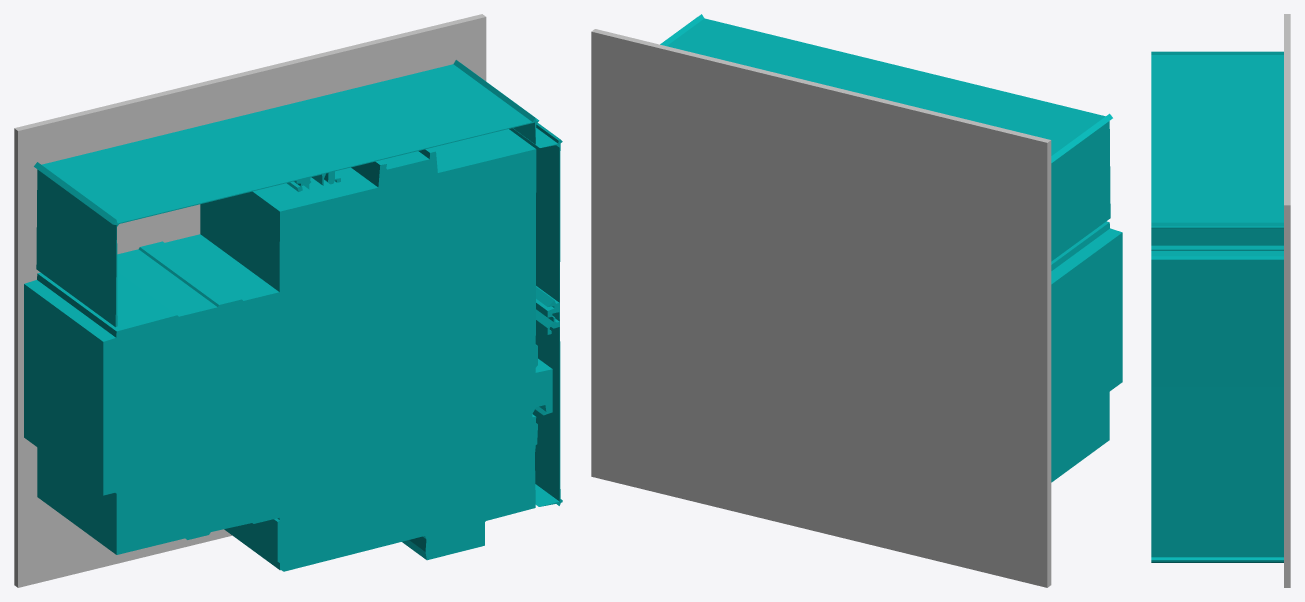
3 views of the same model, side by side, from view 1: azimuth 30°, elevation 25°; view 2: azimuth 150°, elevation 25°; view 3: azimuth 270°, elevation 25° (orthographic). The views are drawn at different scales.
Parts seen in each view (by area): view 1: world; view 2: world; view 3: world.
Boxes of the visible parts, bbox=[...] form: world: bbox=[14, 14, 562, 587]; world: bbox=[591, 14, 1122, 587]; world: bbox=[1151, 14, 1290, 587].
Size of the model in its own units: 10.23 by 9.54 by 3.15.
